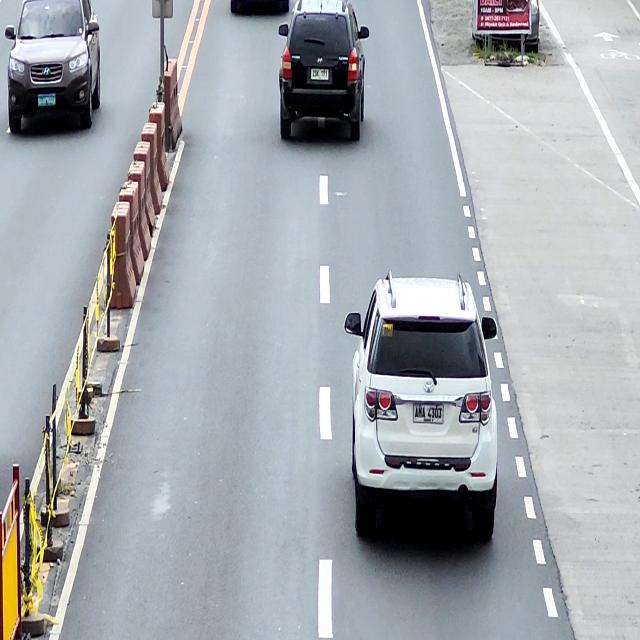Car: (345, 271, 498, 541), (5, 0, 101, 136), (278, 0, 369, 140)
License-Plate: (413, 405, 444, 424), (311, 69, 329, 80), (38, 95, 56, 106)
